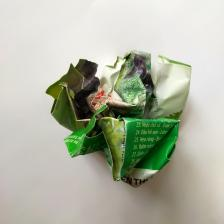Paper: (31, 43, 194, 188)
